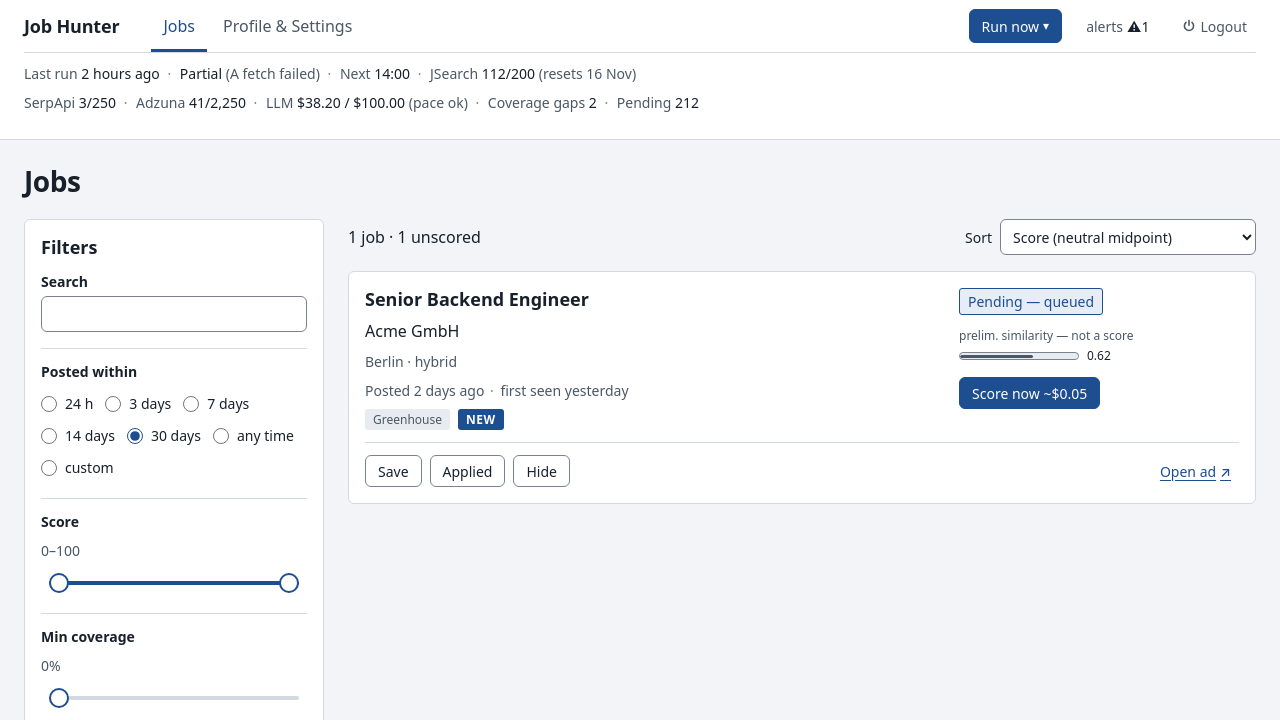
Score now › sends a keyed POST without force, and its answers toast
The image size is (1280, 720).
Click the button "Score now ~$0.05". click: (1030, 393)
box: 959,377 -> 1100,409
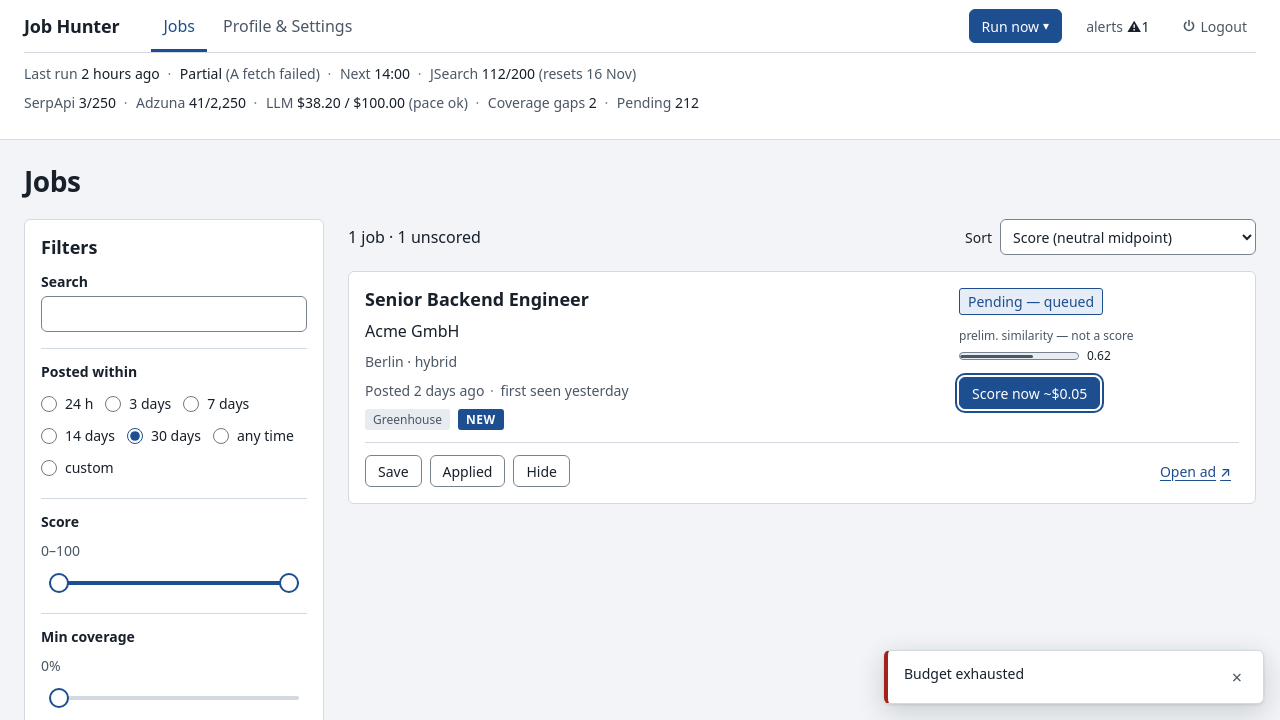
Result: the text "Budget exhausted" is shown at 904,664 -> 1024,683
Click the button "Score now ~$0.05". click: (1030, 393)
box: 959,377 -> 1100,409
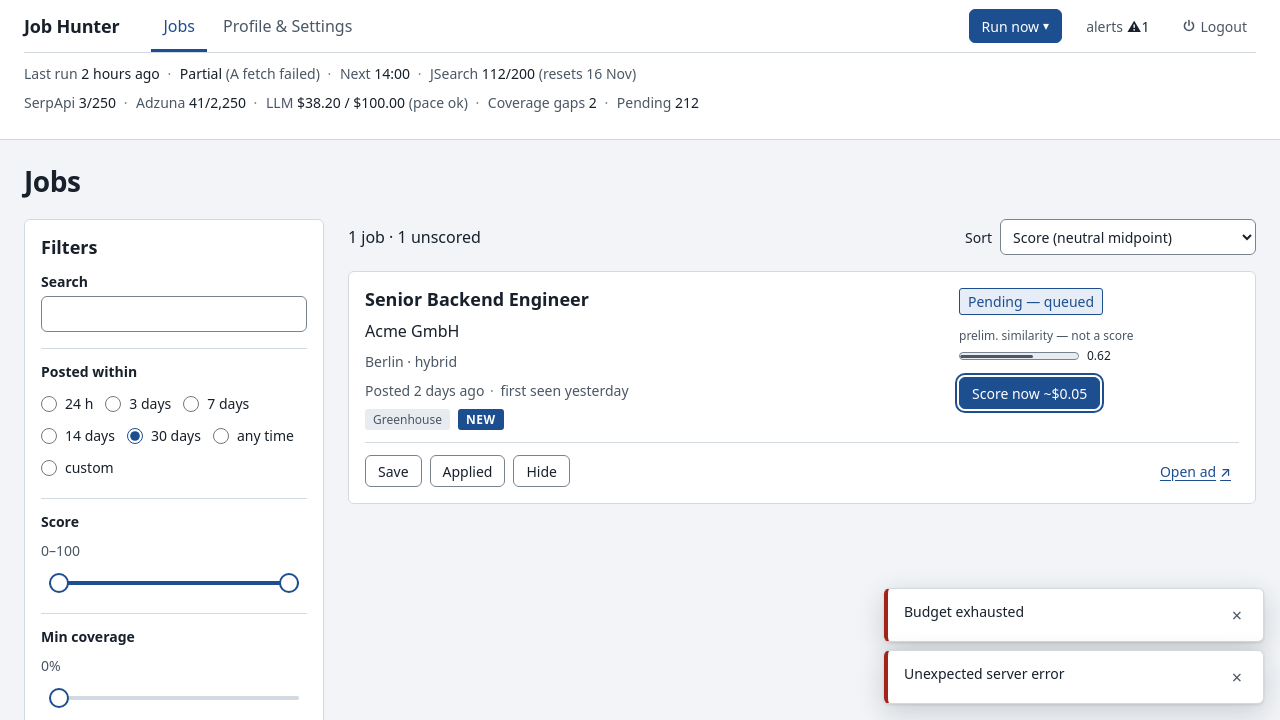
Result: the text "Unexpected server error" is shown at 904,664 -> 1065,683
Click the button "Score now ~$0.05". click: (1030, 393)
box: 959,377 -> 1100,409
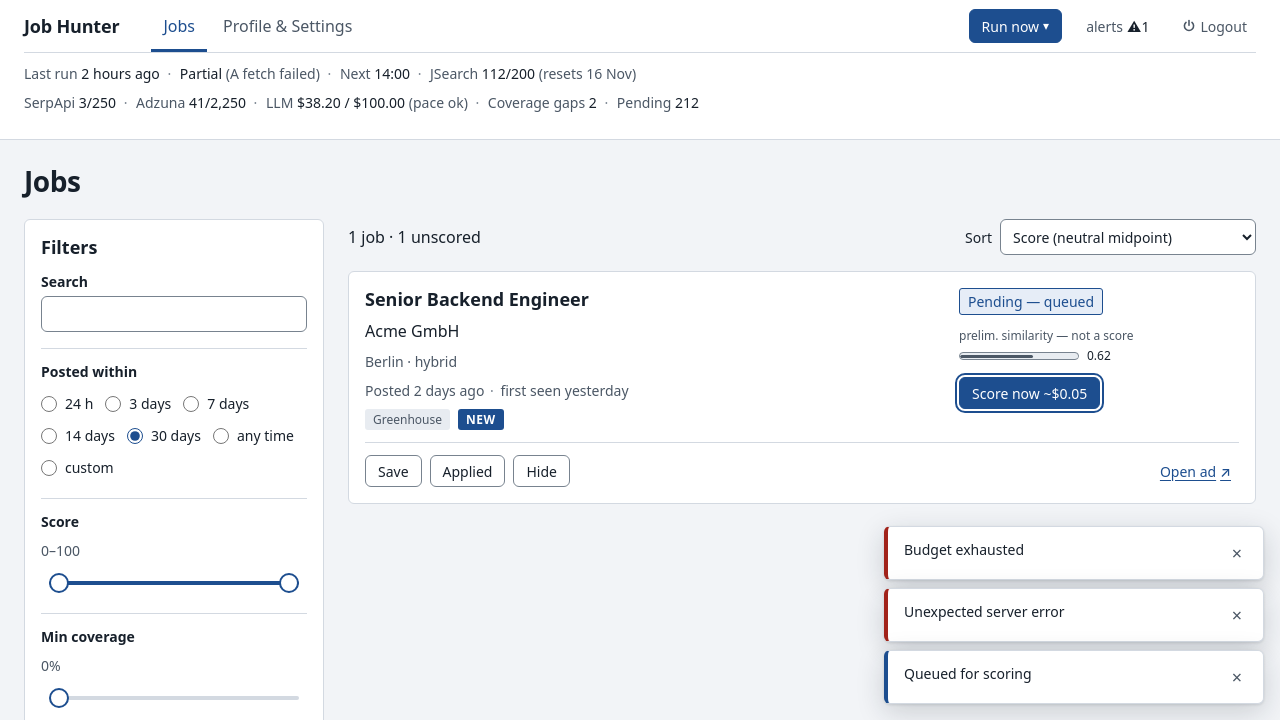
Result: the text "Queued for scoring" is shown at 904,664 -> 1032,683
